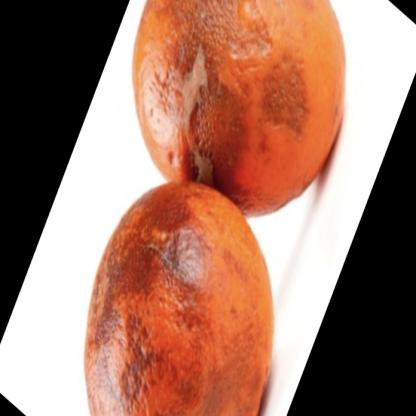rotten: (85, 1, 347, 416)
